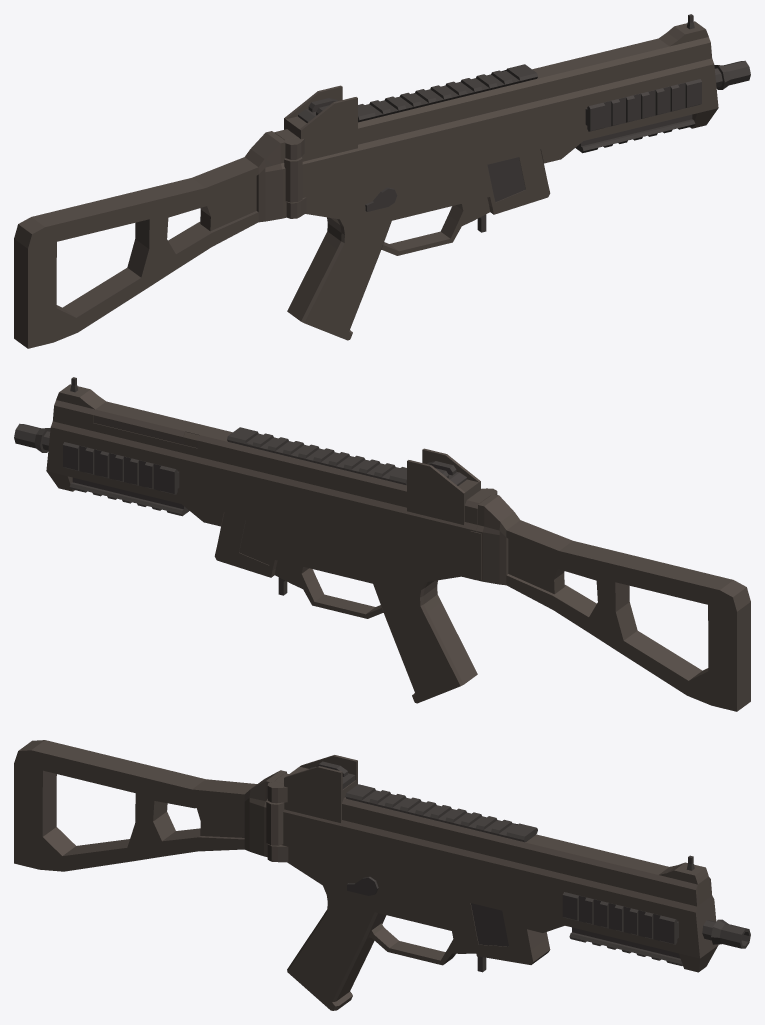
Rendered from SMG6_03.fbx.
3 views of the same model, one above another, from view 1: azimuth 30°, elevation 25°; view 2: azimuth 150°, elevation 25°; view 3: azimuth 330°, elevation 25° (orthographic).
Parts seen in each view (by area): view 1: SMG6_03; view 2: SMG6_03; view 3: SMG6_03.
Boxes of the visible parts, box(x1,y1,x2,y2) form: SMG6_03: box(14, 14, 750, 348); SMG6_03: box(14, 377, 750, 711); SMG6_03: box(14, 740, 750, 1010).
Size of the model in its own units: 0.7193 by 0.2278 by 0.0477.
